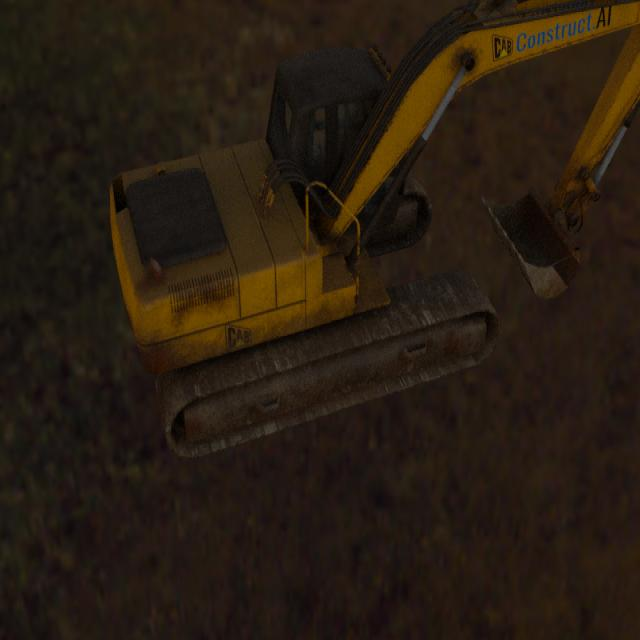excavator: (109, 0, 640, 460)
